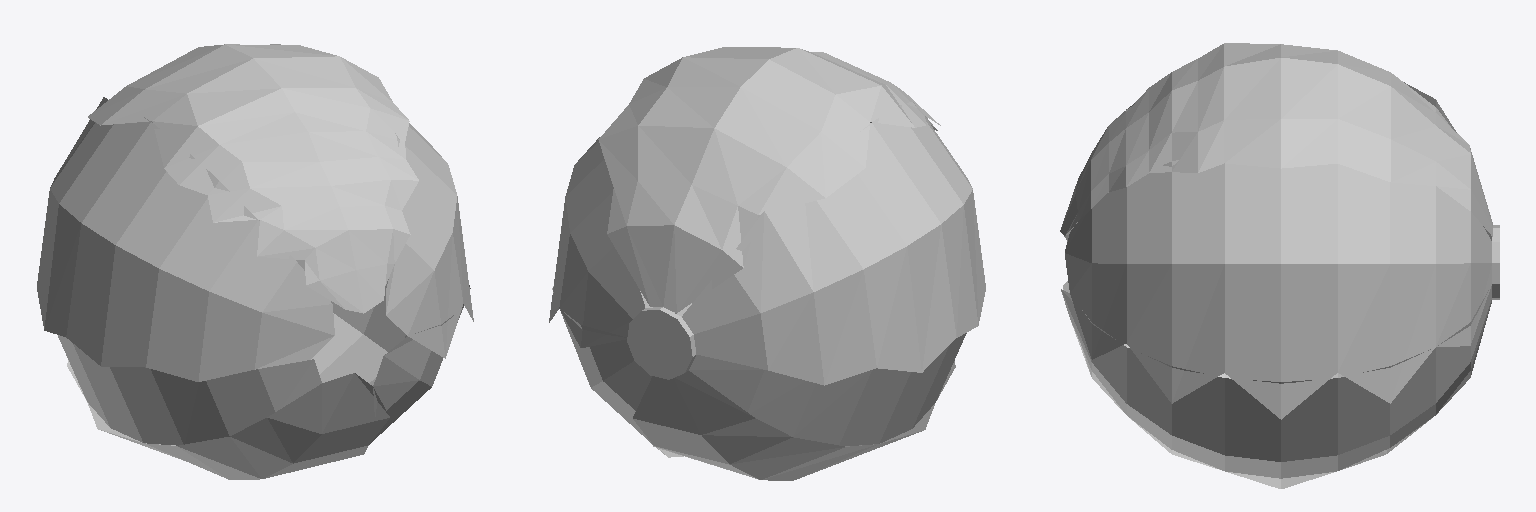
File: Lechuga.obj
3 renders of one model, left to right at view 1: azimuth 30°, elevation 25°; view 2: azimuth 150°, elevation 25°; view 3: azimuth 270°, elevation 25°, orthographic.
Parts seen in each view (by area): view 1: Lechugas.001_cabbage.000; view 2: Lechugas.001_cabbage.000; view 3: Lechugas.001_cabbage.000.
Part boxes in pixels (x1,y1,x2,y2): Lechugas.001_cabbage.000: (37,44,473,479); Lechugas.001_cabbage.000: (549,47,985,480); Lechugas.001_cabbage.000: (1060,43,1499,488).
Size of the model in its own units: 0.2317 by 0.2311 by 0.2333.